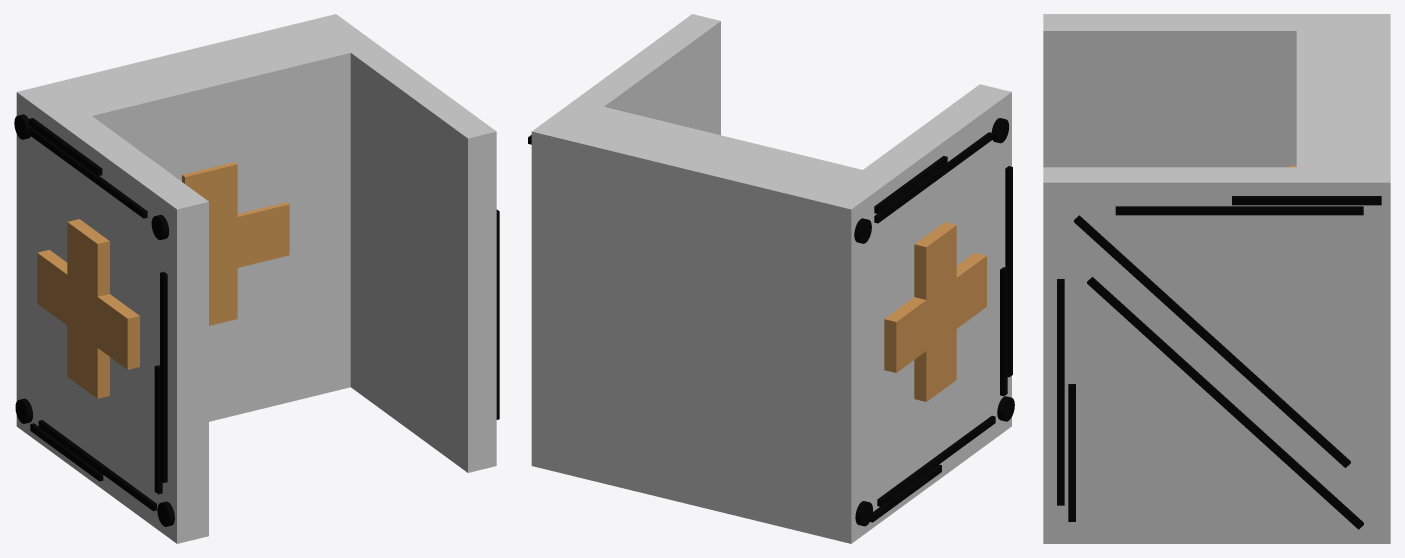
The model's file is Receptor positivo.fbx.
The picture shows the model from 3 angles, left to right: view 1: azimuth 30°, elevation 25°; view 2: azimuth 150°, elevation 25°; view 3: azimuth 270°, elevation 25°; orthographic projection. The views are drawn at different scales.
Visible parts, largest first — view 1: pCube12; view 2: pCube12; view 3: pCube12.
Boxes of the visible parts, left/top/right/bottom form: pCube12: left=14, top=14, right=499, bottom=543; pCube12: left=528, top=14, right=1014, bottom=543; pCube12: left=1043, top=14, right=1390, bottom=543.
Size of the model in its own units: 2.19 by 2.05 by 1.79.
